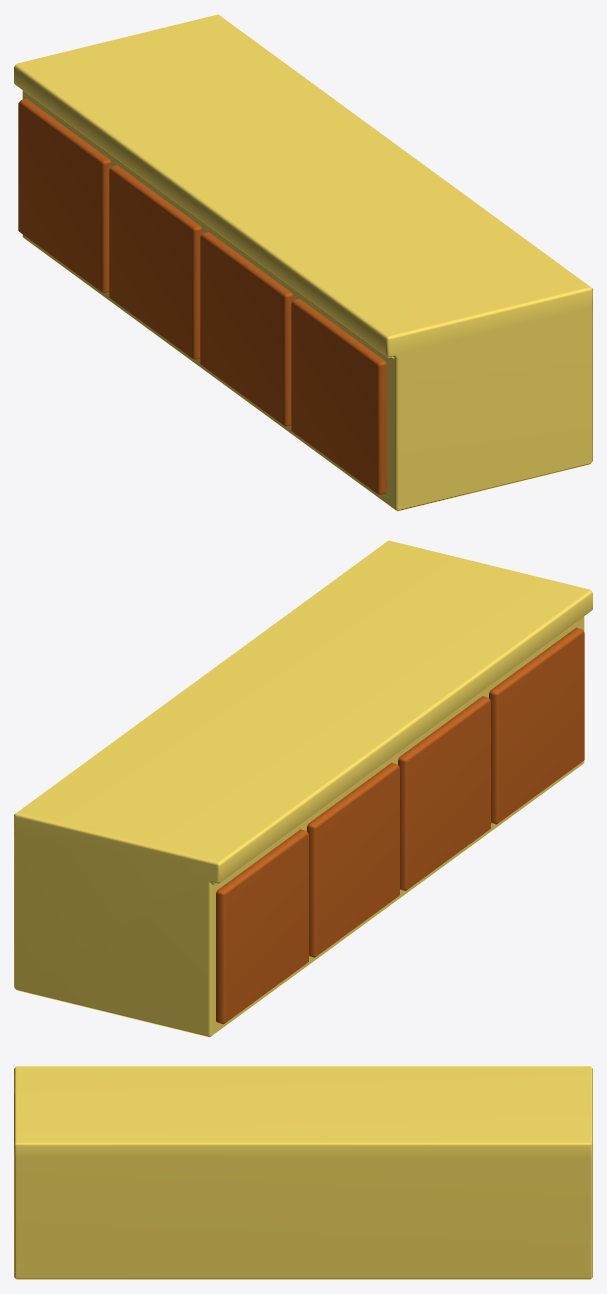
The model's file is TVCabinet.fbx.
The picture shows the model from 3 angles, top to bottom: view 1: azimuth 30°, elevation 25°; view 2: azimuth 150°, elevation 25°; view 3: azimuth 270°, elevation 25°; orthographic projection. The views are drawn at different scales.
Parts seen in each view (by area): view 1: TV Cabinet; view 2: TV Cabinet; view 3: TV Cabinet.
Part boxes in pixels (left/top/right/bottom): TV Cabinet: left=14, top=14, right=592, bottom=511; TV Cabinet: left=14, top=540, right=592, bottom=1037; TV Cabinet: left=14, top=1066, right=592, bottom=1279.
Size of the model in its own units: 73.26 by 59.98 by 229.
